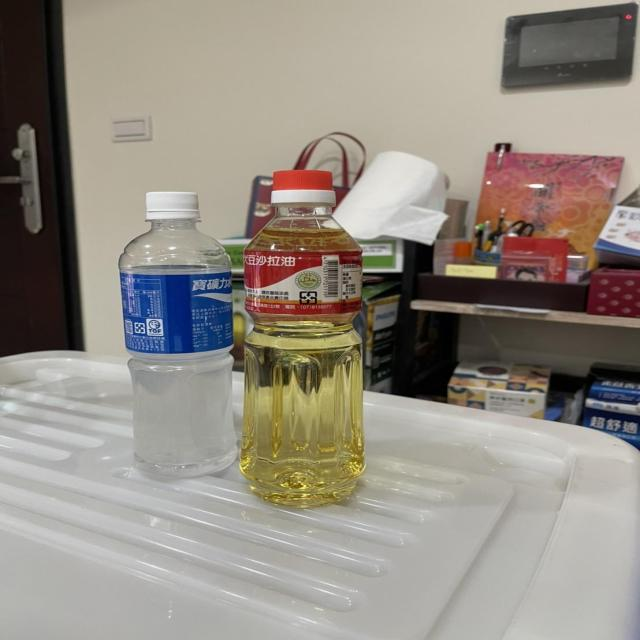bottle: (230, 168, 382, 516), (108, 189, 243, 483)
